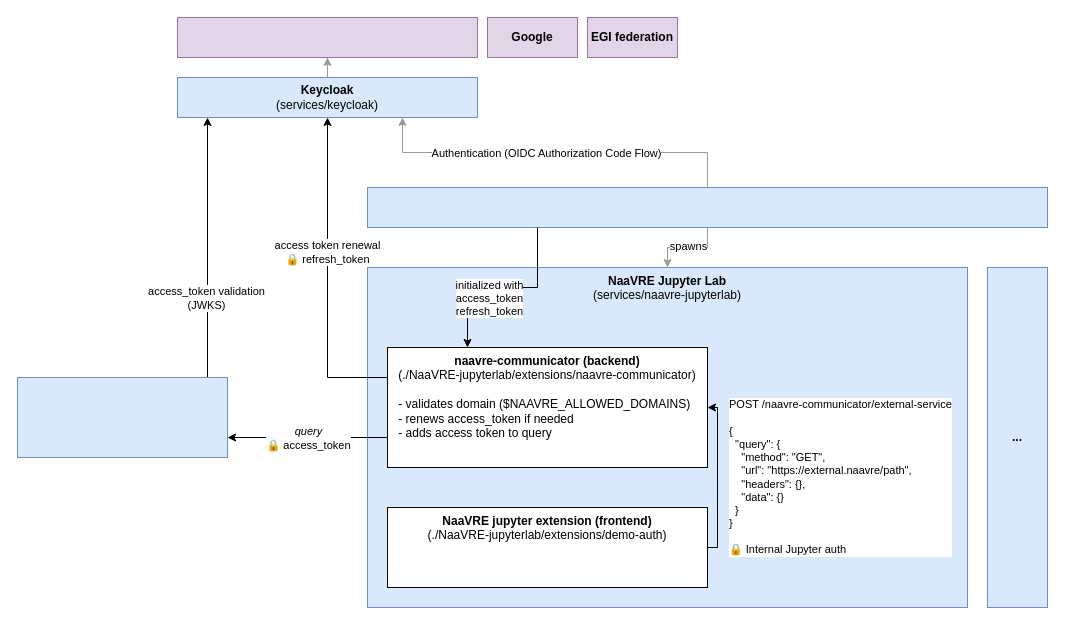
The diagram is 1065 pixels wide and 625 high, and some of its shapes have lost their labels. The centre of each missing label's shape, as x and y in pixels:
"External NaaVRE service (services/demo-oauth-service)" goes at point (122, 417).
"Jupyter Hub (services/naavre-jupyterhub)" goes at point (707, 207).
"LifeWatch AAI" goes at point (327, 37).
